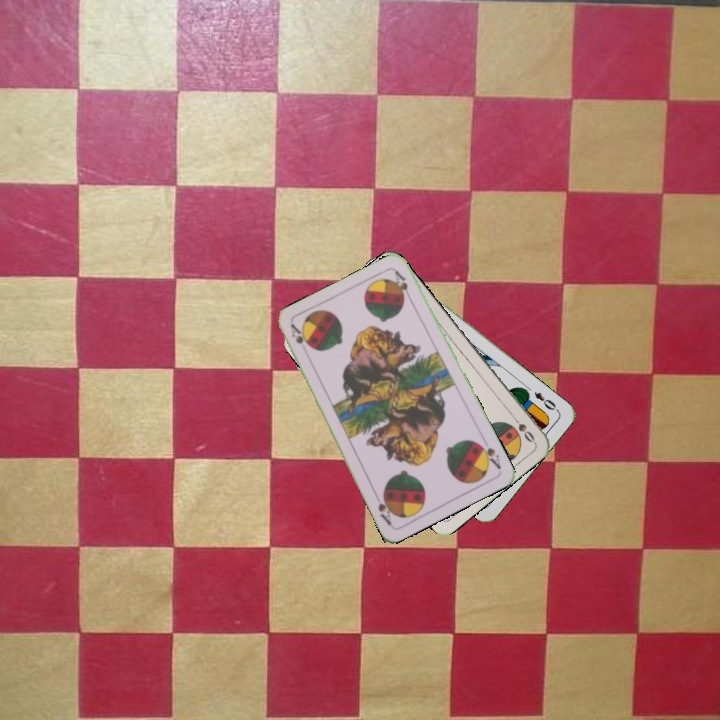EO: (530, 388, 561, 414)
SA: (473, 434, 504, 472), (286, 320, 309, 347)
SO: (507, 411, 537, 445)
